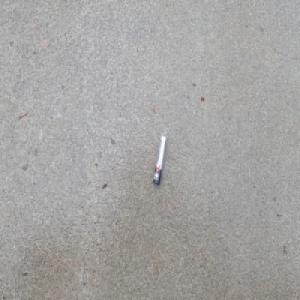Battery: (152, 133, 167, 186)
